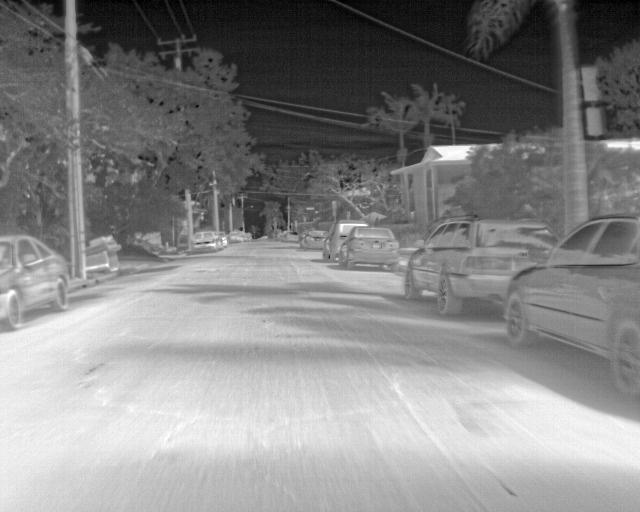car: (506, 212, 639, 398), (401, 218, 561, 319), (0, 234, 71, 332), (340, 226, 401, 272), (320, 219, 368, 261), (300, 227, 329, 250), (190, 232, 219, 254), (214, 230, 227, 248), (286, 228, 301, 243), (229, 229, 243, 243)
